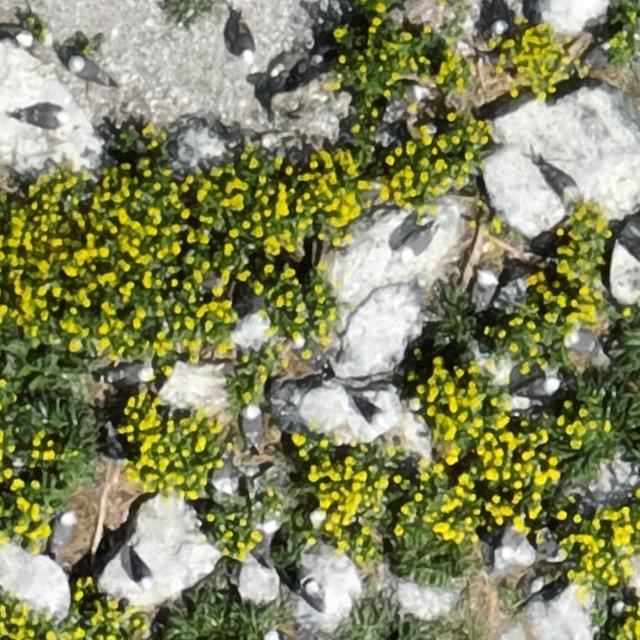umineko: (380, 85, 430, 124), (351, 382, 390, 428), (397, 225, 435, 269), (564, 334, 608, 364), (302, 570, 328, 615), (210, 462, 242, 498), (106, 365, 162, 385), (498, 530, 532, 561), (543, 167, 578, 197), (518, 376, 560, 398), (52, 512, 75, 548), (240, 403, 260, 444), (1, 24, 31, 51), (474, 272, 496, 308), (20, 107, 61, 126), (72, 57, 103, 80), (132, 556, 152, 588), (236, 28, 254, 62), (608, 600, 624, 620), (263, 630, 283, 640)
